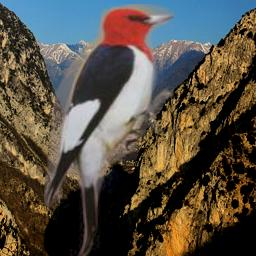Woodpecker: (44, 4, 174, 256)
